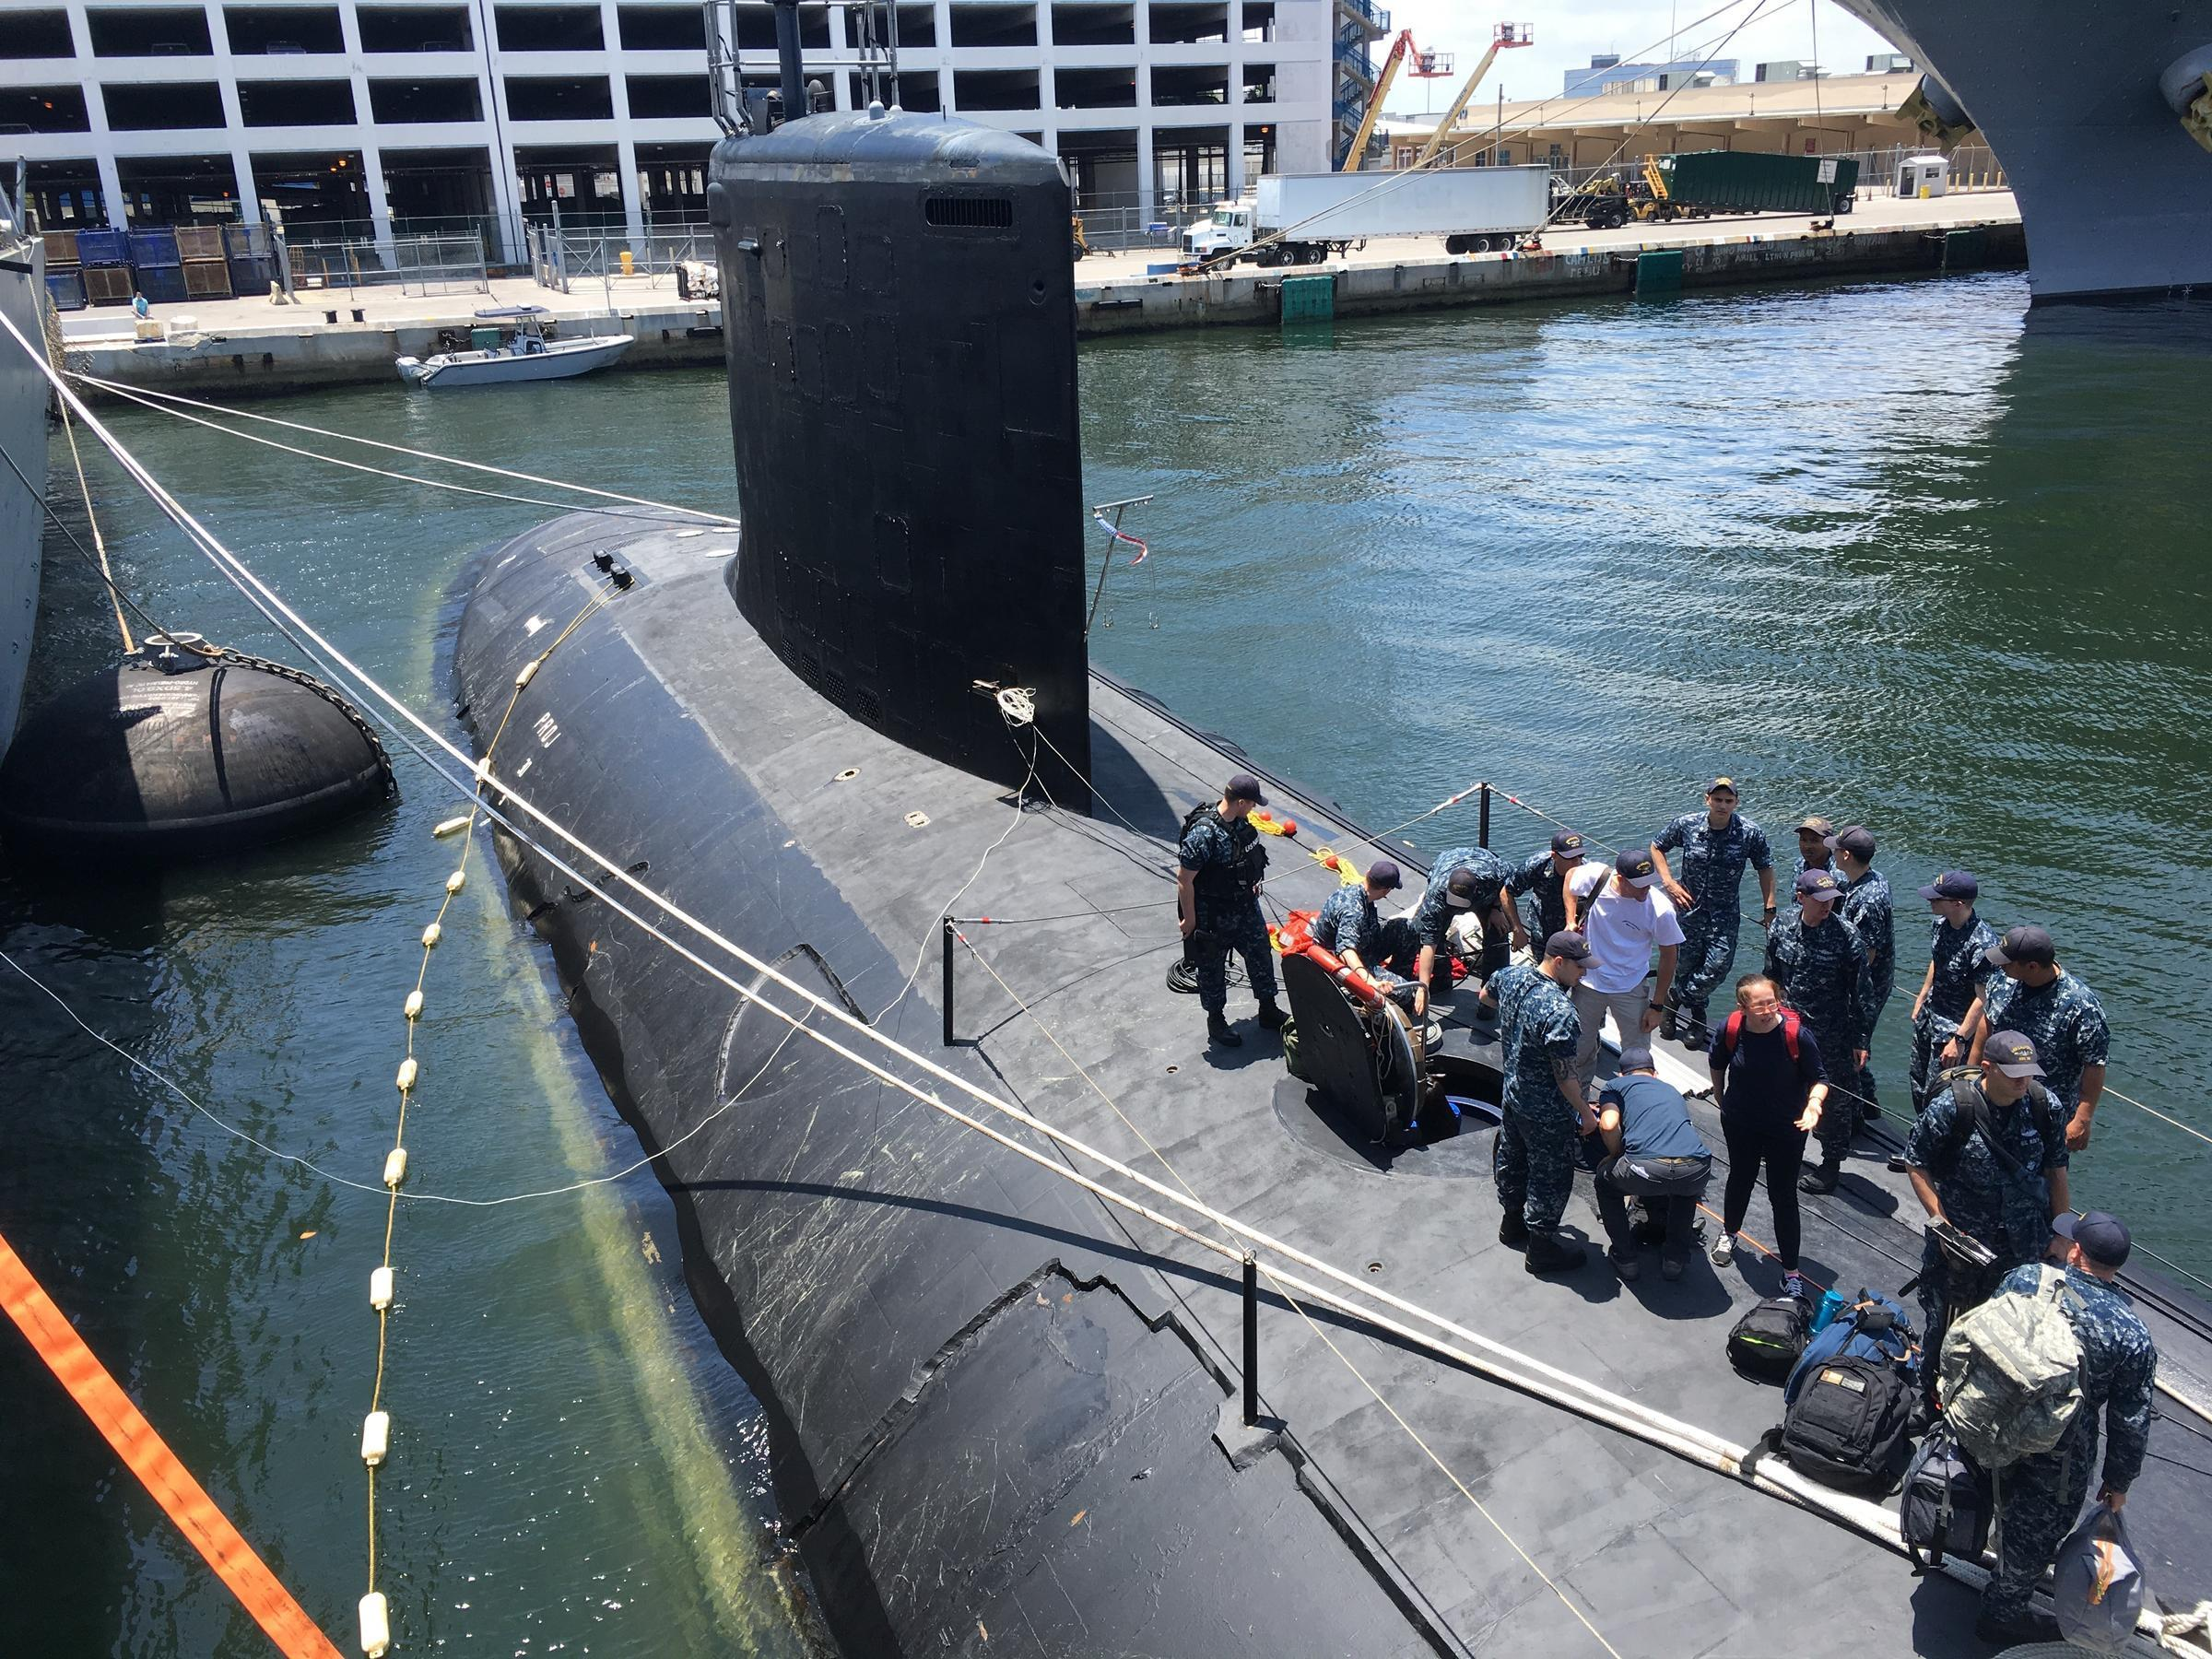Submarine: (350, 56, 2212, 1659)
